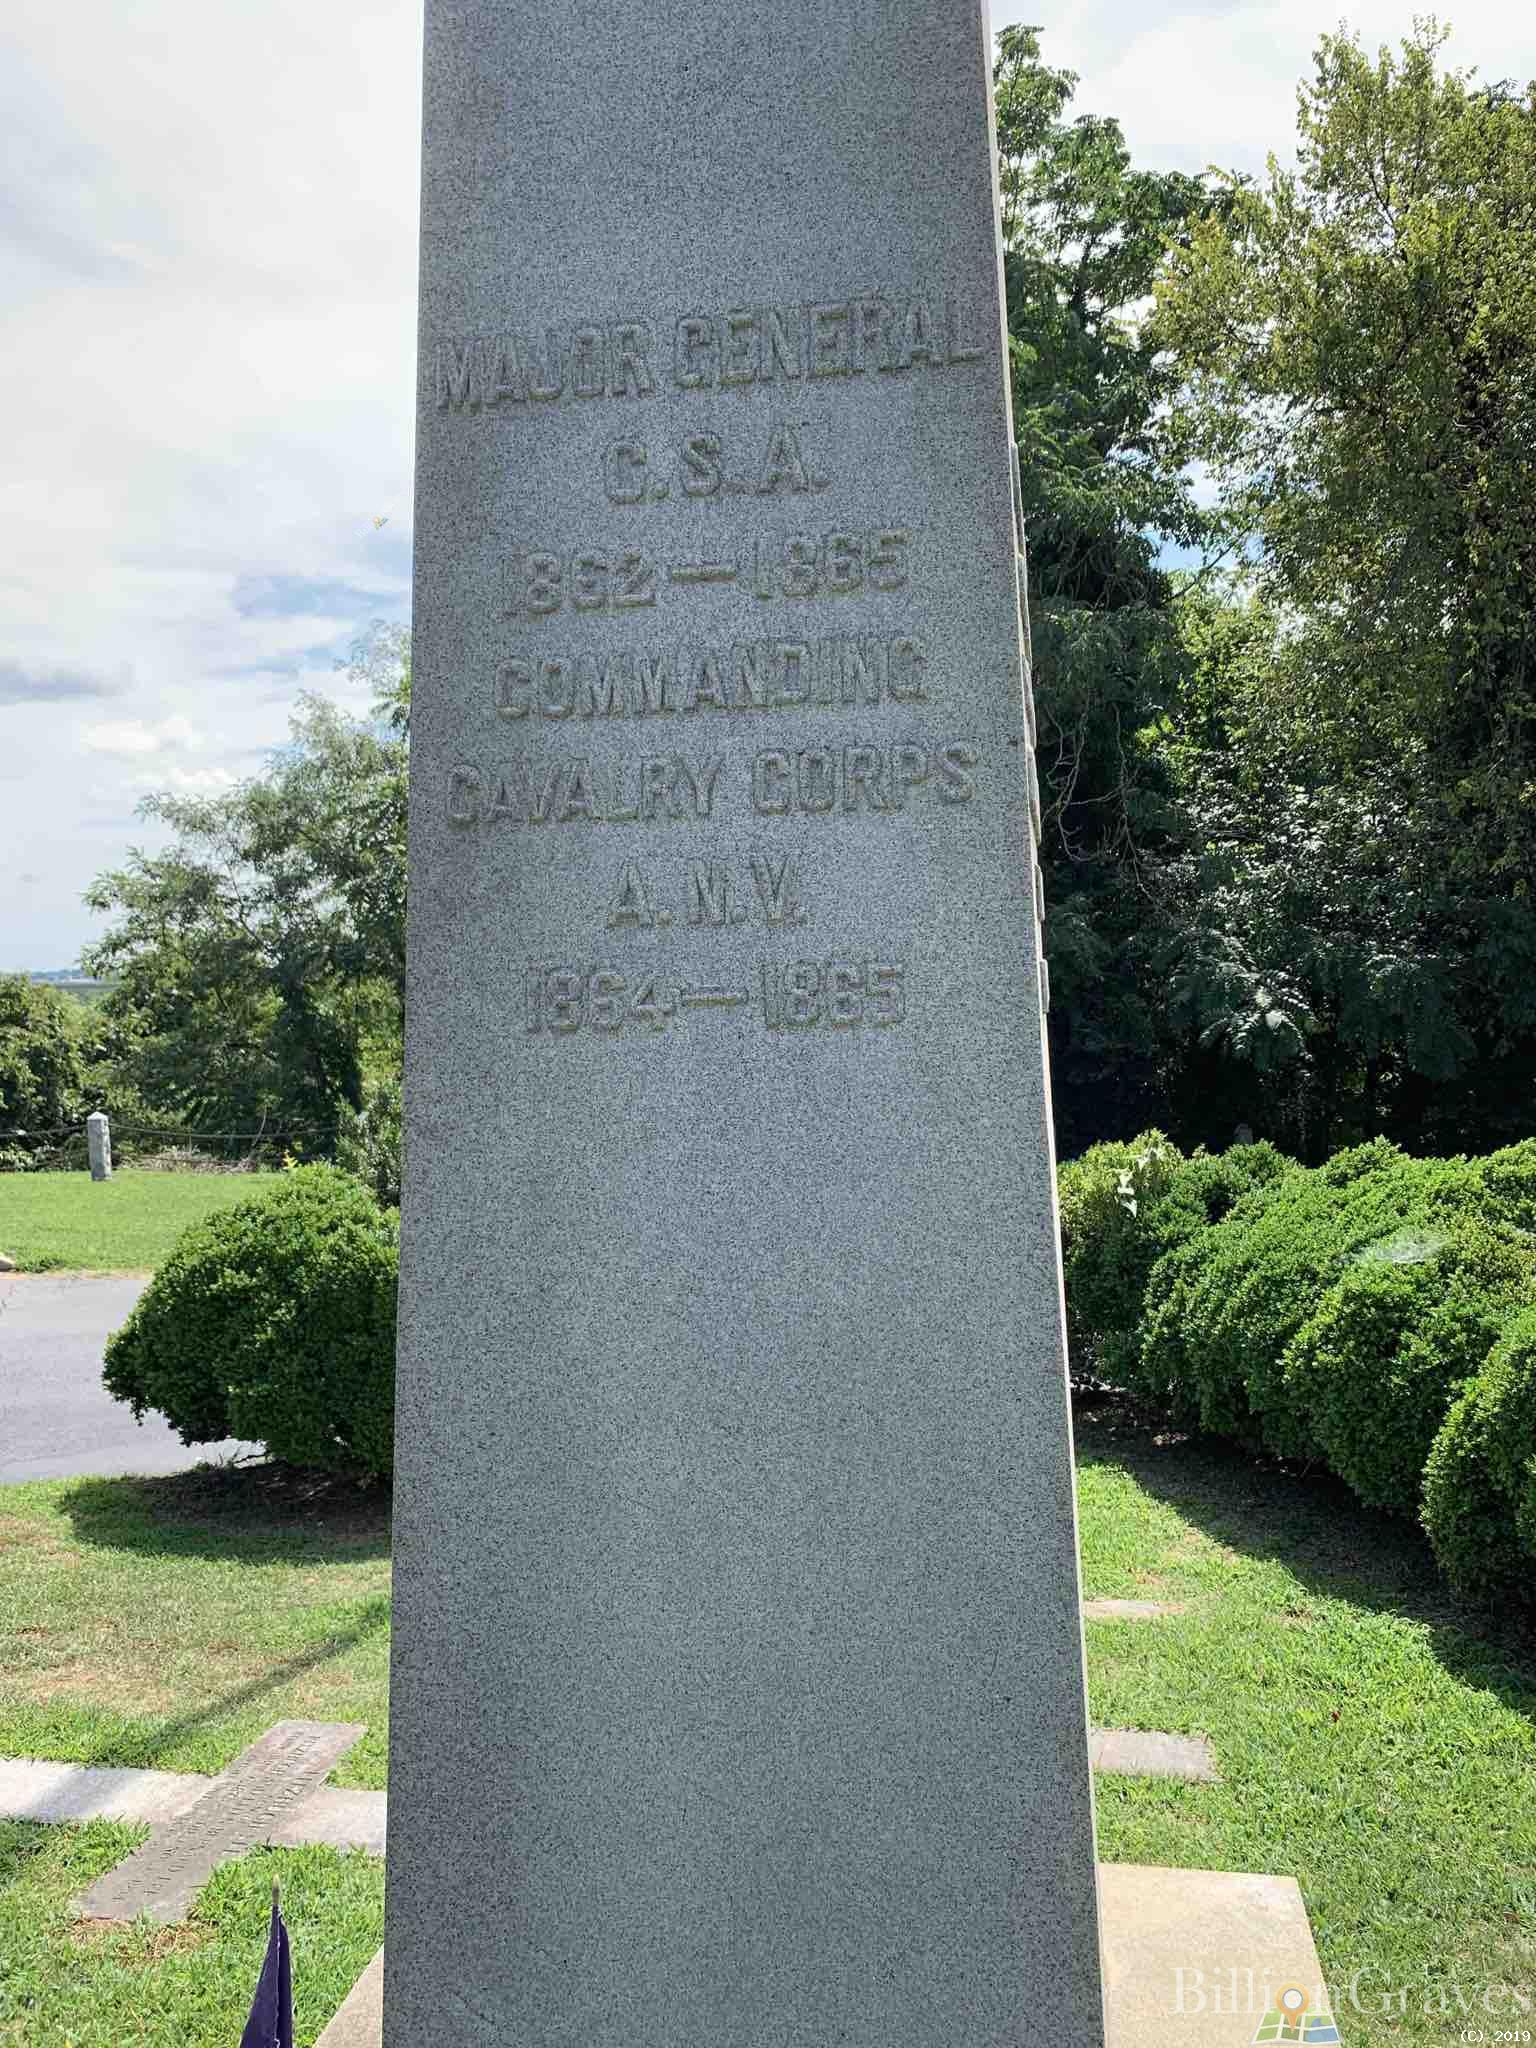obelisk: (395, 0, 1096, 2048)
